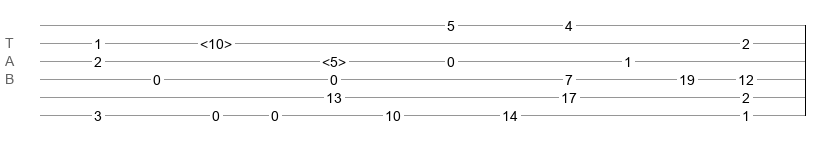0: (153, 72, 161, 82), (212, 108, 220, 118), (271, 108, 279, 118), (330, 72, 338, 82), (447, 54, 455, 64)
1: (94, 36, 102, 46), (624, 54, 632, 64), (742, 108, 750, 118)
10: (385, 108, 401, 118)
12: (738, 72, 754, 82)
13: (326, 90, 342, 100)
14: (502, 108, 518, 118)
17: (561, 90, 577, 100)
19: (679, 72, 695, 82)
2: (94, 54, 102, 64), (742, 36, 750, 46), (742, 90, 750, 100)
3: (94, 108, 102, 118)
4: (565, 18, 573, 28)
5: (447, 18, 455, 28)
7: (565, 72, 573, 82)
harmonic: (200, 36, 232, 46), (322, 54, 346, 64)
